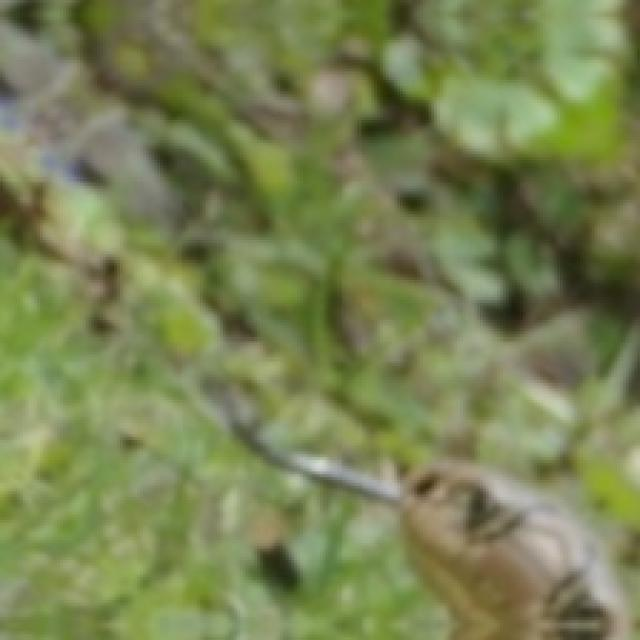king cobra: (231, 420, 626, 637), (400, 463, 626, 637)
